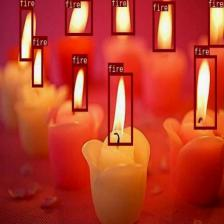fire: (107, 72, 132, 145), (194, 55, 216, 129), (152, 0, 176, 51), (64, 0, 92, 35), (110, 0, 134, 35), (207, 0, 224, 47), (19, 7, 33, 61), (72, 64, 87, 110), (32, 46, 43, 86)
